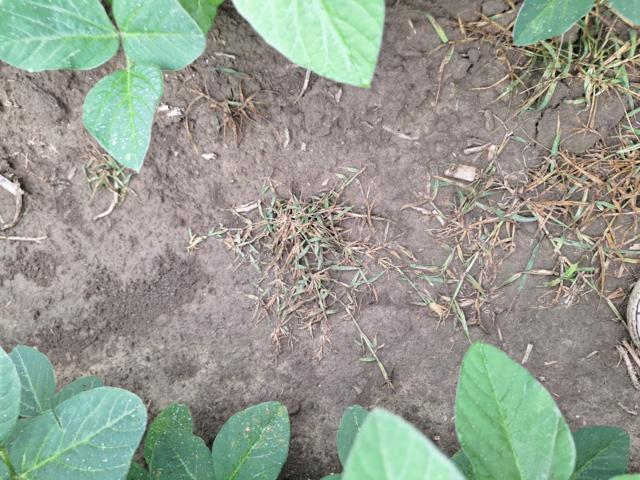bad weed: (421, 138, 640, 324), (208, 182, 397, 338)
